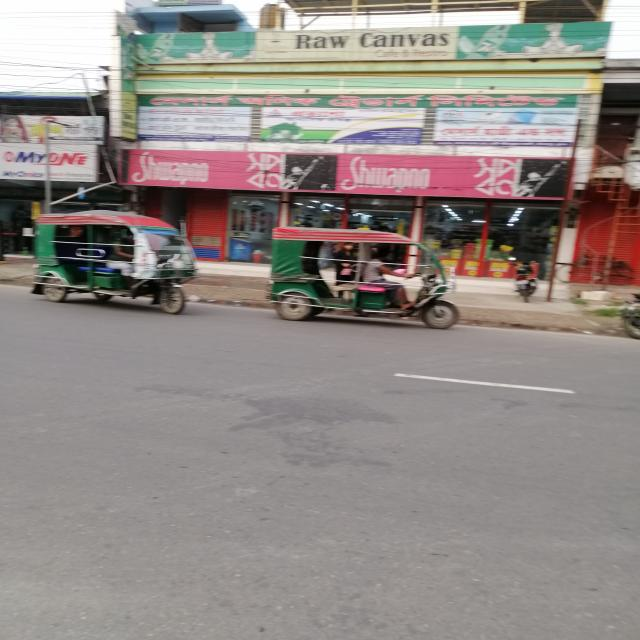Easybike: (247, 214, 472, 349), (9, 201, 202, 333)
Motorbike: (501, 266, 551, 314)
